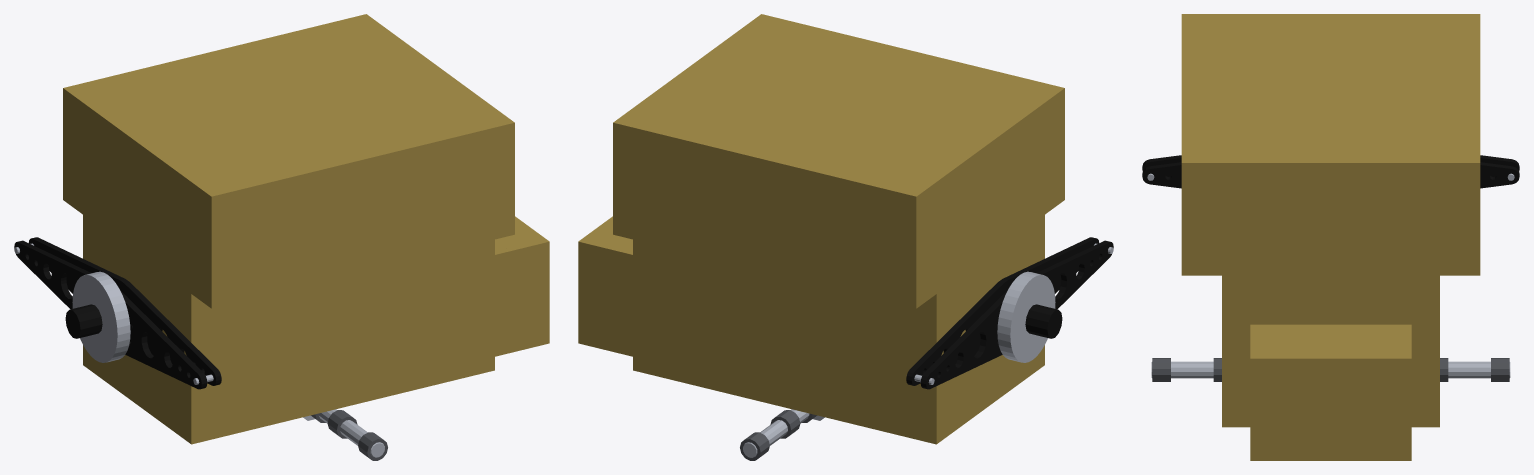
3 renders of one model, left to right at view 1: azimuth 30°, elevation 25°; view 2: azimuth 150°, elevation 25°; view 3: azimuth 270°, elevation 25°, orthographic.
Parts seen in each view (by area): view 1: _titanium_bar; view 2: _titanium_bar; view 3: _titanium_bar.
Part boxes in pixels (bbox=[...]): _titanium_bar: bbox=[14, 14, 549, 460]; _titanium_bar: bbox=[578, 14, 1113, 460]; _titanium_bar: bbox=[1142, 14, 1519, 460].
Size of the model in its own units: 0.3769 by 0.2804 by 0.242.
